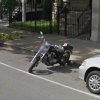Motorcycle: (22, 30, 79, 78)
